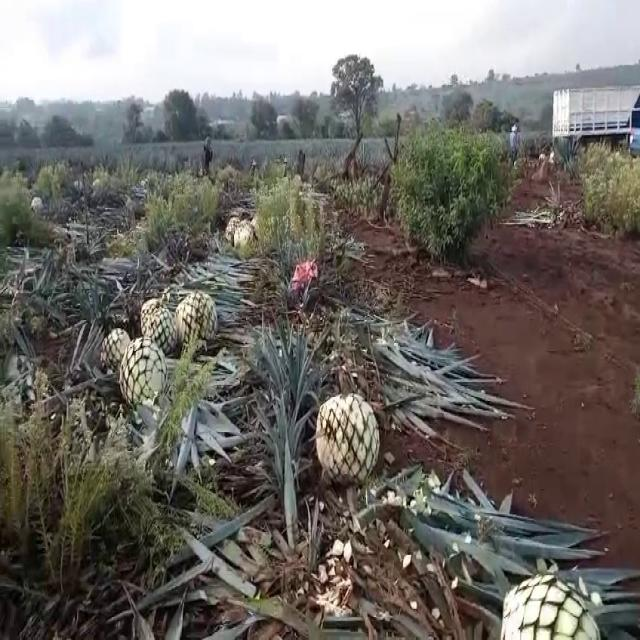agave: (498, 575, 602, 640), (316, 392, 384, 487), (118, 336, 168, 414), (175, 284, 221, 348), (148, 305, 176, 360), (96, 326, 127, 364), (139, 293, 163, 337), (228, 213, 241, 240), (241, 225, 256, 248), (236, 222, 248, 242)
